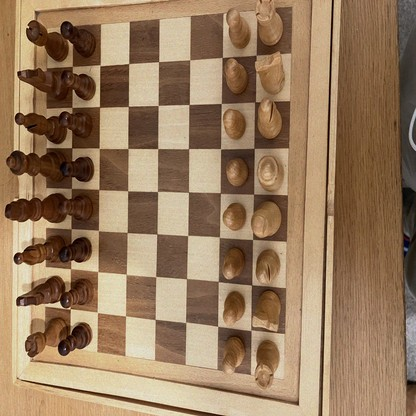bishop_black: (15, 113, 66, 142), (14, 237, 64, 264)
bishop_white: (258, 98, 282, 138), (257, 251, 280, 283)
king_black: (5, 193, 65, 222)
king_white: (253, 201, 281, 237)
knight_black: (16, 277, 64, 306), (18, 68, 61, 94)
knight_white: (256, 52, 286, 95), (253, 291, 280, 332)
pawn_black: (61, 22, 96, 57), (59, 322, 92, 356), (62, 70, 96, 100), (61, 280, 93, 307), (57, 197, 93, 220), (59, 111, 92, 136), (61, 158, 94, 182), (60, 239, 92, 262)
pawn_white: (226, 8, 251, 49), (224, 58, 248, 94), (222, 337, 245, 374), (223, 291, 245, 326), (223, 249, 245, 280), (223, 203, 246, 230), (223, 111, 246, 137), (226, 158, 248, 185)
queen_black: (8, 151, 65, 180)
queen_white: (258, 154, 285, 191)
rock_black: (26, 21, 70, 61), (26, 320, 68, 357)
rock_white: (256, 0, 283, 45), (255, 343, 279, 389)
